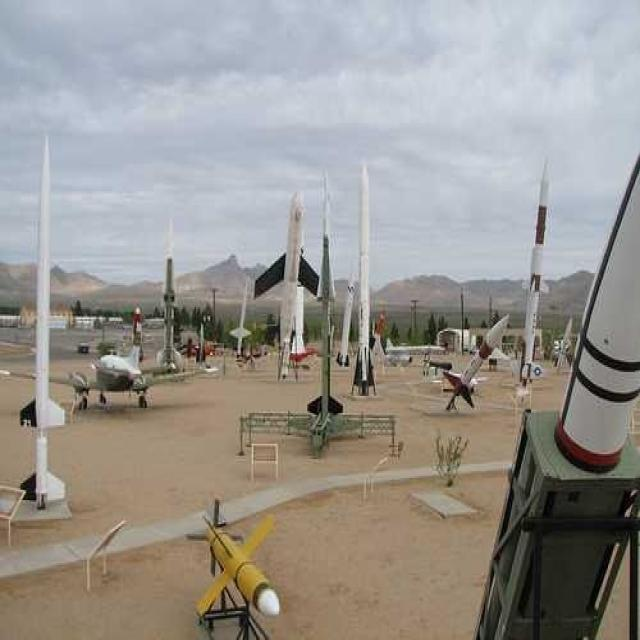missile: (22, 132, 68, 503), (254, 185, 317, 371), (190, 497, 280, 626), (516, 148, 554, 392), (442, 311, 510, 417), (156, 247, 187, 373), (357, 163, 372, 395)
